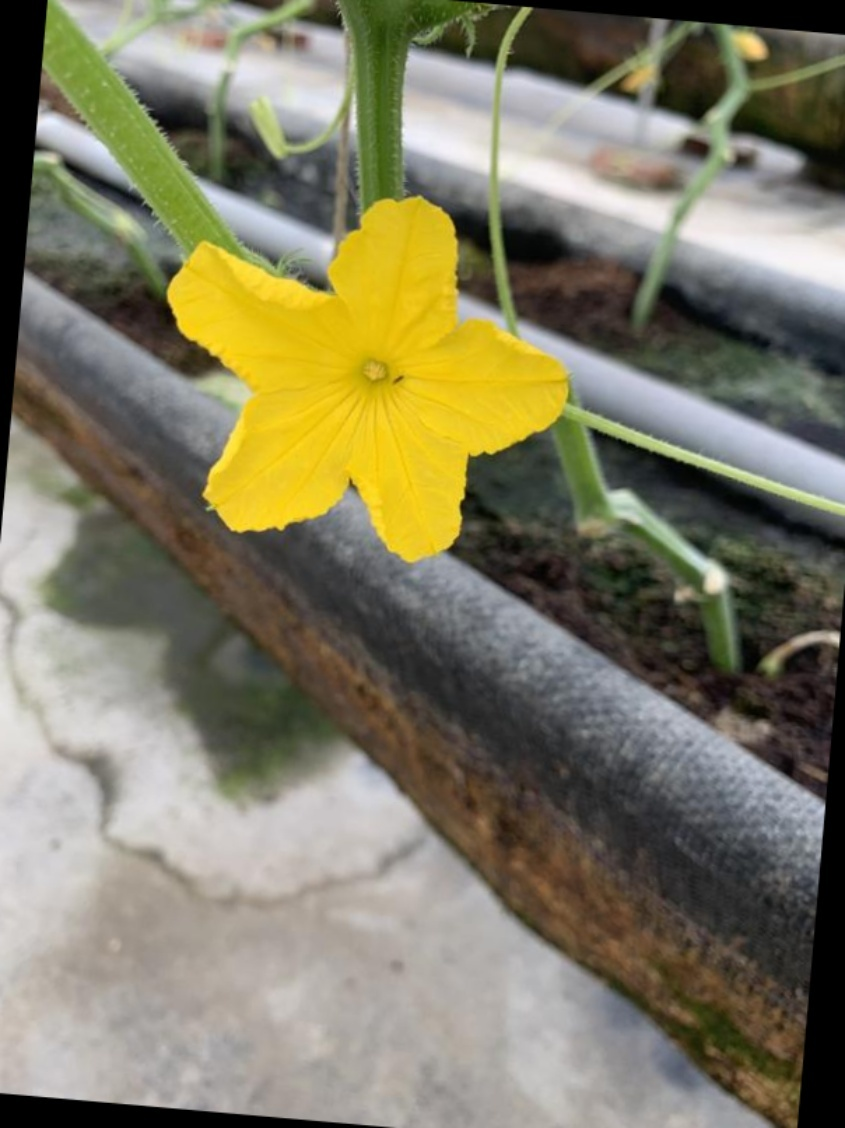mature: (163, 174, 572, 564)
